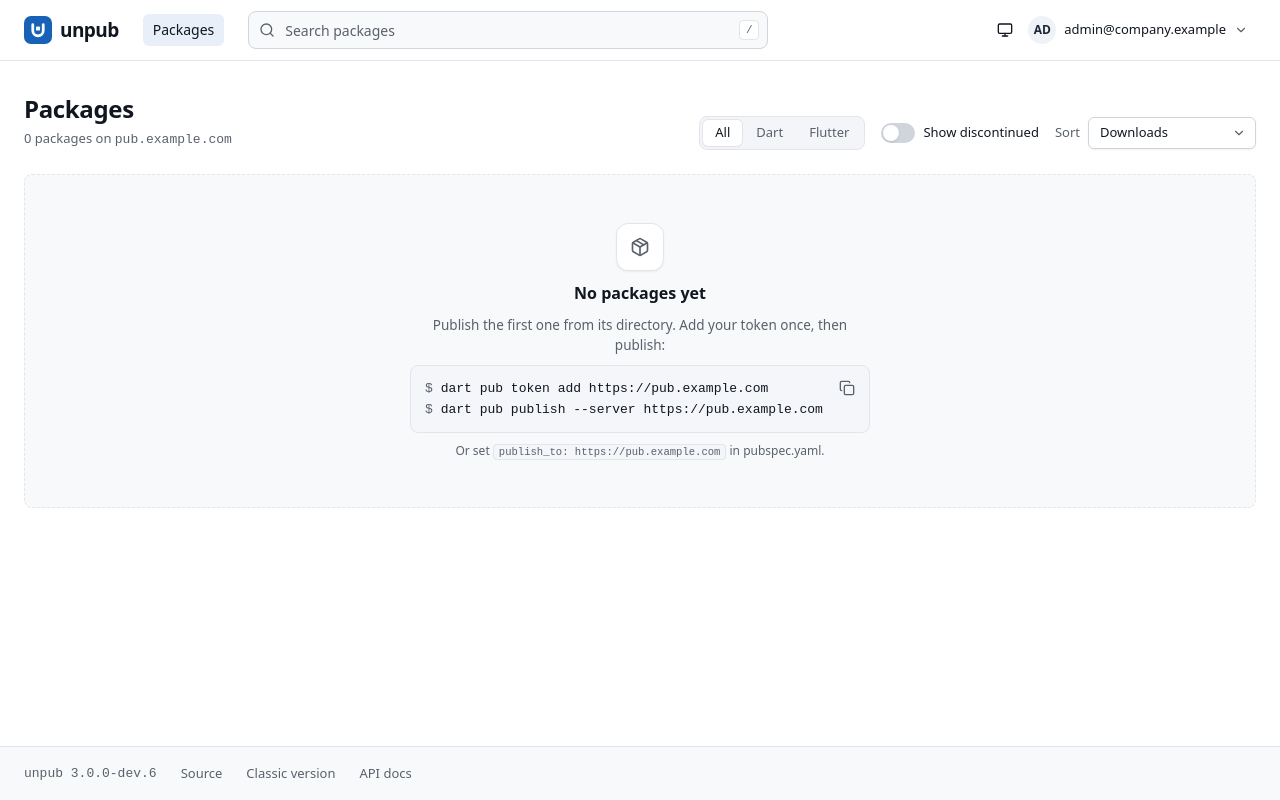
Scenario: logout › keeps the session when CSRF refresh cannot see the user
Click the button with aria-label "Account menu for admin@company.example": (1140, 30) [1024, 12, 1256, 48]
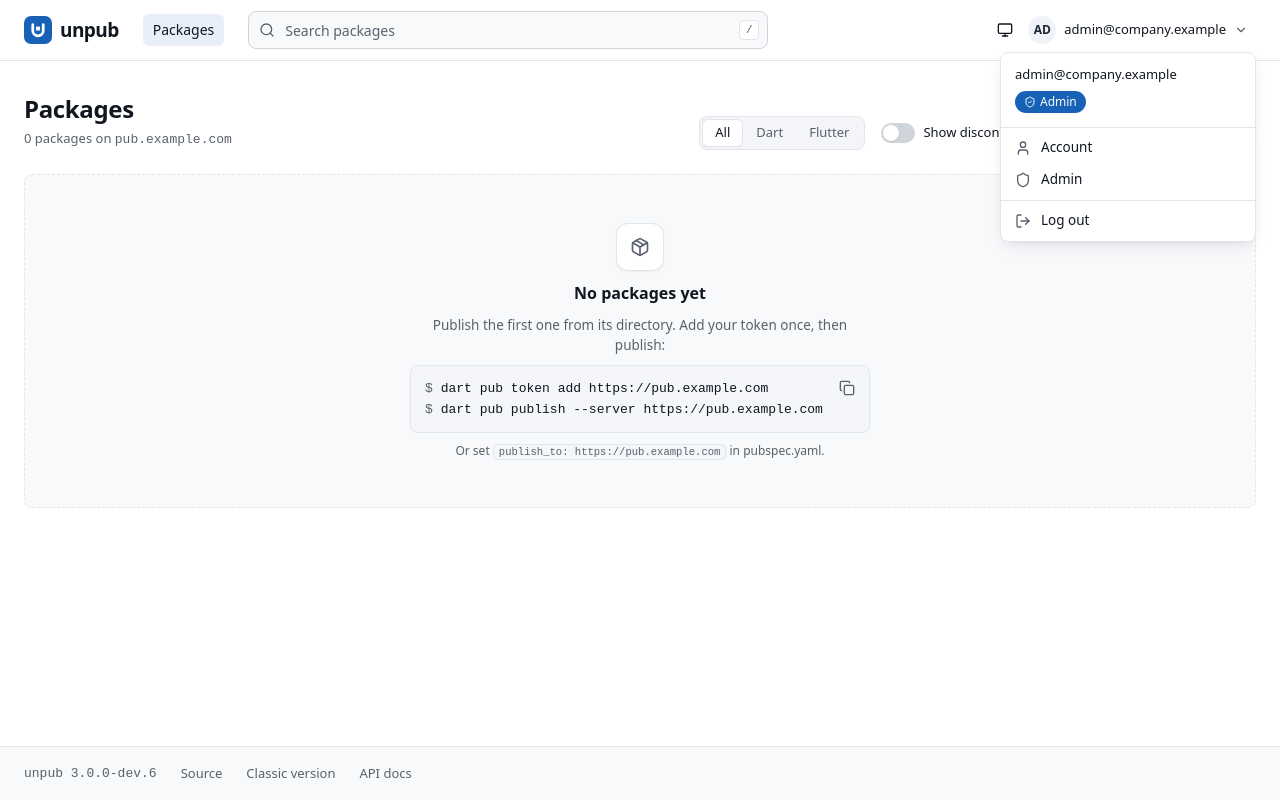
Click the menu item "Log out": (1052, 220) [1015, 211, 1090, 229]
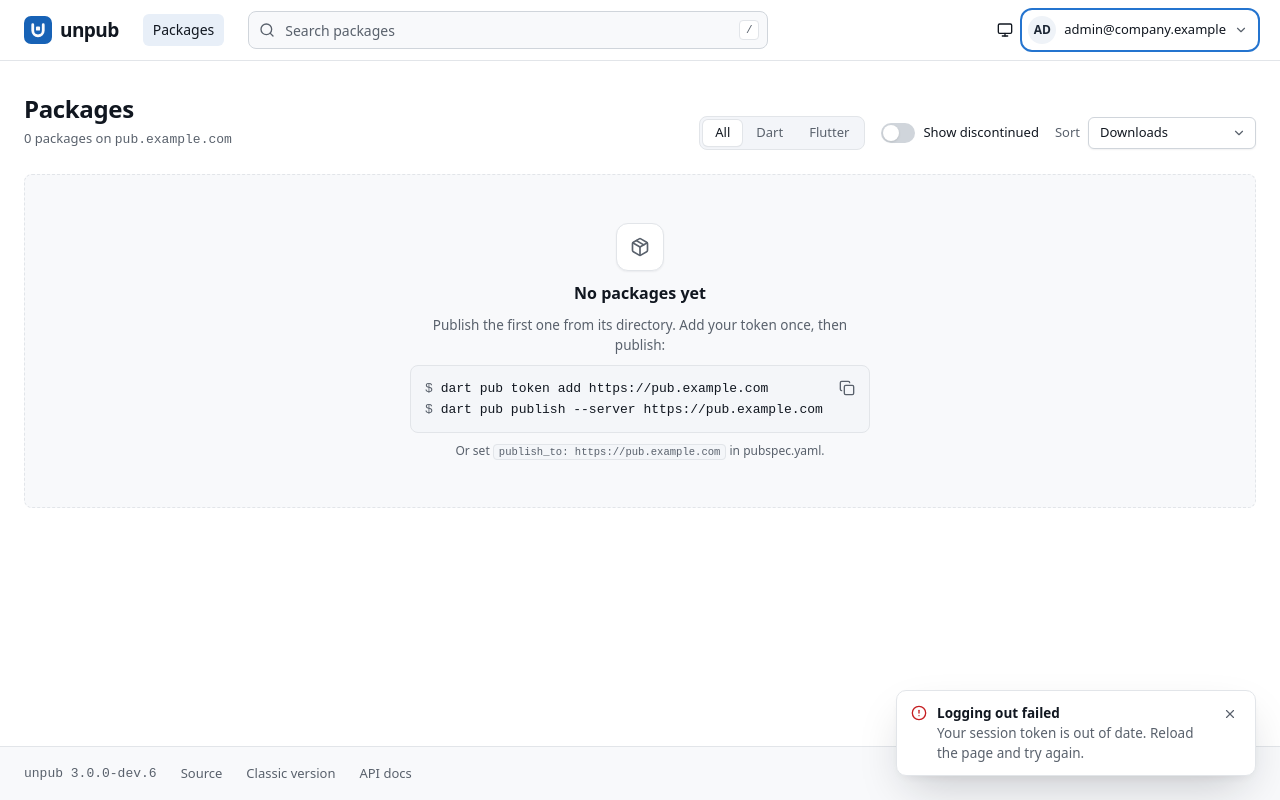
Check: the button with aria-label "Account menu for admin@company.example" is shown, box [1024, 12, 1256, 48]
Check: the text "Logging out failed" is shown, box [937, 704, 1060, 722]
